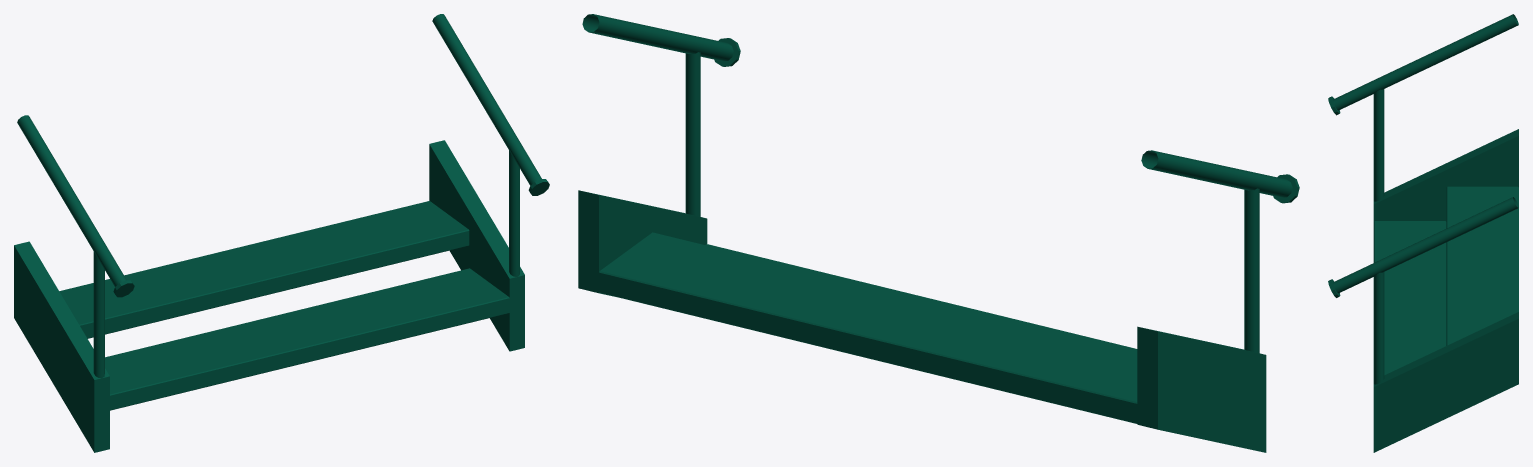
Rendered from stairBottom.fbx.
The picture shows the model from 3 angles, left to right: view 1: azimuth 30°, elevation 25°; view 2: azimuth 150°, elevation 25°; view 3: azimuth 270°, elevation 25°; orthographic projection. The views are drawn at different scales.
Parts seen in each view (by area): view 1: polySurface215, polySurface213, polySurface214, polySurface251, polySurface250, polySurface258, polySurface201, polySurface257; view 2: polySurface213, polySurface214, polySurface251, polySurface250, polySurface258, polySurface257, polySurface201, polySurface215; view 3: polySurface251, polySurface213, polySurface215, polySurface214, polySurface250, polySurface258, polySurface257, polySurface201.
Boxes of the visible parts, bbox=[...] form: polySurface215: bbox=[105, 268, 509, 410]; polySurface213: bbox=[59, 201, 469, 338]; polySurface214: bbox=[14, 241, 109, 452]; polySurface251: bbox=[429, 140, 524, 351]; polySurface250: bbox=[17, 115, 134, 297]; polySurface258: bbox=[432, 14, 549, 195]; polySurface201: bbox=[93, 251, 104, 378]; polySurface257: bbox=[509, 150, 519, 276]; polySurface213: bbox=[599, 232, 1137, 423]; polySurface214: bbox=[1137, 326, 1266, 452]; polySurface251: bbox=[578, 190, 707, 296]; polySurface250: bbox=[1141, 150, 1299, 203]; polySurface258: bbox=[582, 14, 740, 66]; polySurface257: bbox=[685, 52, 700, 216]; polySurface201: bbox=[1244, 188, 1259, 353]; polySurface215: bbox=[705, 244, 1137, 350]; polySurface251: bbox=[1373, 312, 1518, 452]; polySurface213: bbox=[1446, 186, 1518, 345]; polySurface215: bbox=[1373, 221, 1446, 375]; polySurface214: bbox=[1373, 129, 1518, 221]; polySurface250: bbox=[1328, 14, 1518, 115]; polySurface258: bbox=[1328, 197, 1518, 297]; polySurface257: bbox=[1373, 272, 1384, 384]; polySurface201: bbox=[1373, 89, 1384, 201].
Size of the model in its own units: 307 by 189 by 130.
